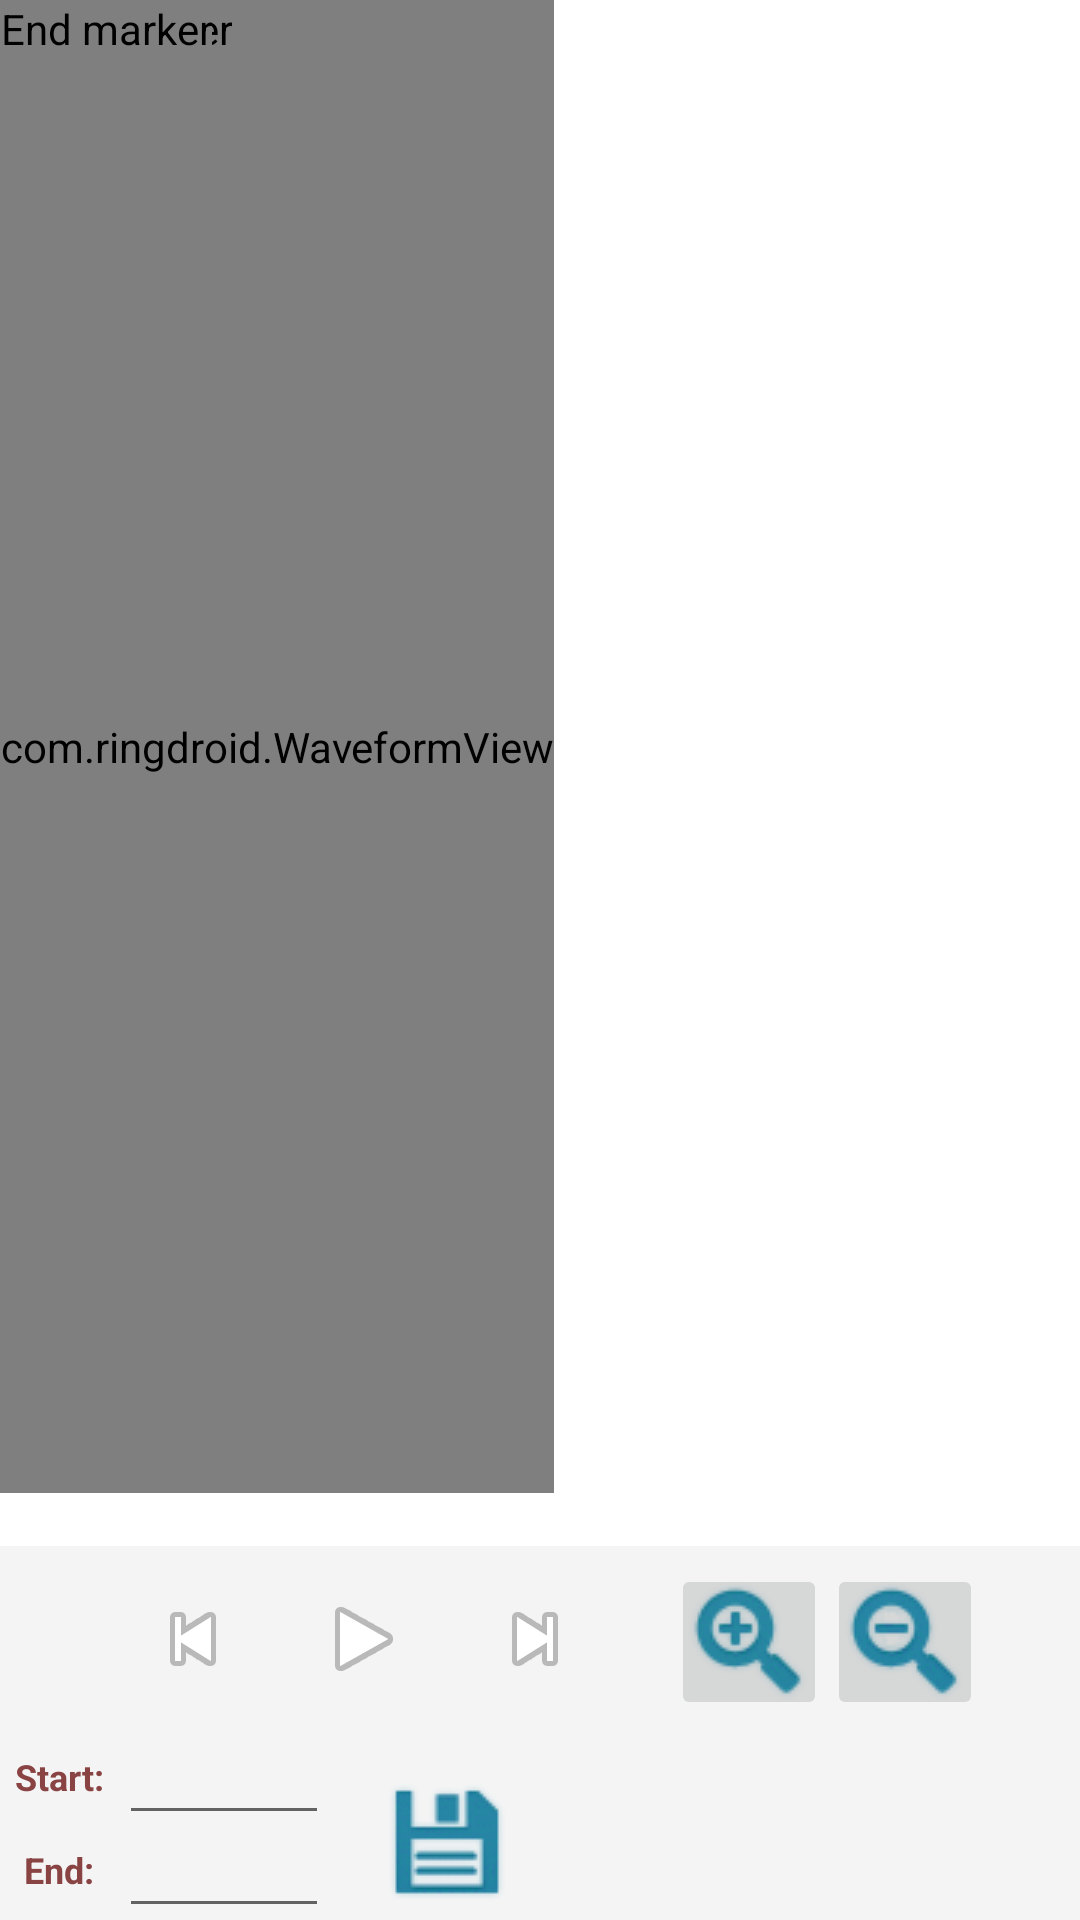

Icon click points for this 1080px×1920px phone screenshot, format [x,y]:
Fast forward: [535,1639]
Play: [364,1639]
Rewind: [193,1639]
Save: [447,1842]
Zoom In: [749,1642]
Zoom Out: [905,1642]
